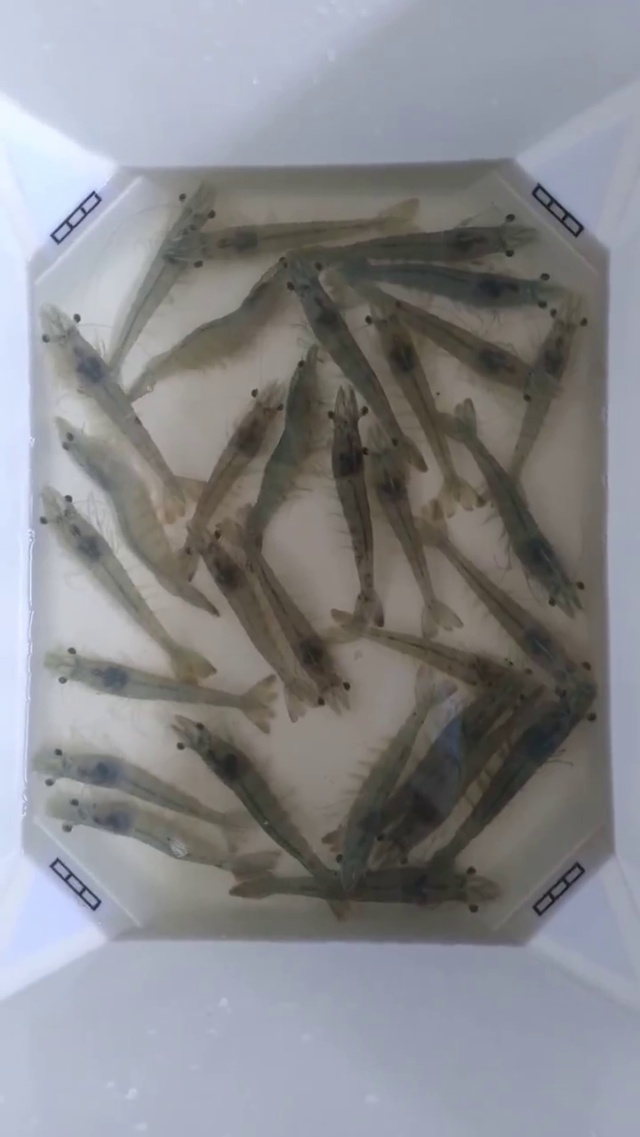shrimp: (522, 161, 639, 500), (557, 425, 639, 743), (17, 336, 118, 535), (579, 509, 639, 806), (24, 748, 122, 927), (179, 172, 283, 330), (442, 399, 535, 567), (278, 245, 373, 401), (426, 772, 522, 926), (185, 408, 276, 570), (224, 591, 327, 730), (42, 487, 148, 622), (382, 632, 513, 741), (126, 526, 217, 677), (498, 214, 586, 370), (28, 651, 108, 820), (316, 237, 415, 372), (26, 192, 101, 370), (309, 771, 380, 919), (119, 663, 232, 748), (45, 648, 171, 699), (326, 608, 382, 710)
